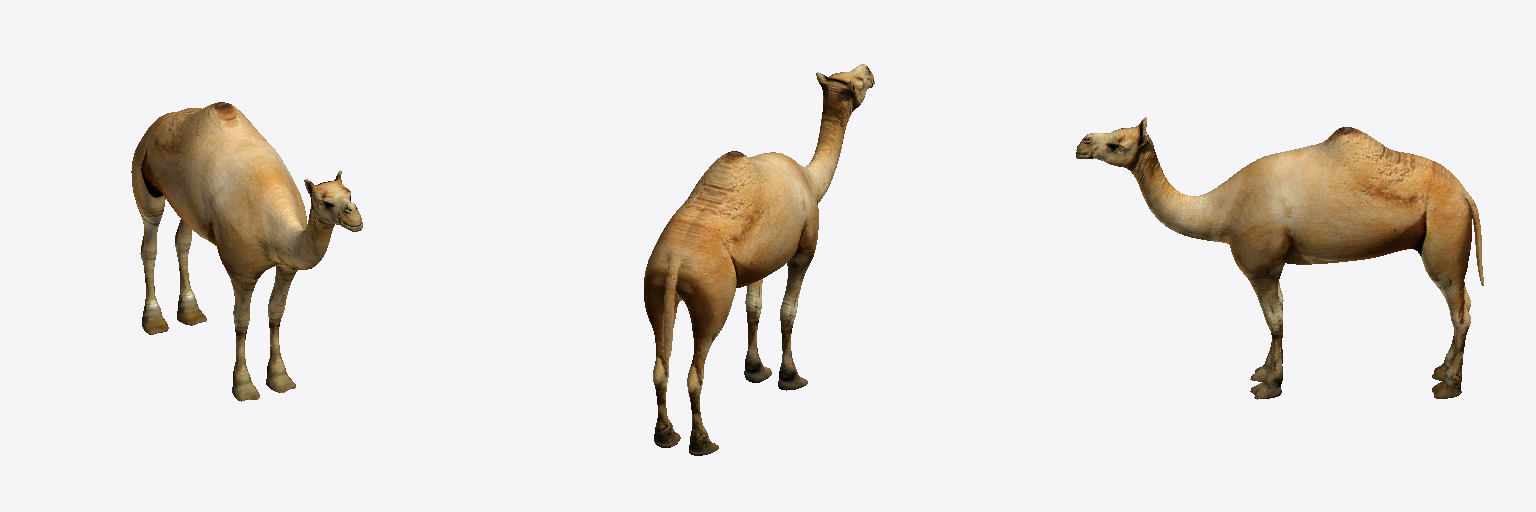
3 views of the same model, side by side, from view 1: azimuth 30°, elevation 25°; view 2: azimuth 150°, elevation 25°; view 3: azimuth 270°, elevation 25° (orthographic).
Parts seen in each view (by area): view 1: CamelFBXASC046002; view 2: CamelFBXASC046002; view 3: CamelFBXASC046002.
Part boxes in pixels (bbox=[...]): CamelFBXASC046002: bbox=[131, 102, 362, 401]; CamelFBXASC046002: bbox=[644, 64, 874, 455]; CamelFBXASC046002: bbox=[1076, 117, 1483, 399].
Size of the model in its own units: 2.84 by 7.67 by 10.89.
1 materials, 1 textured.